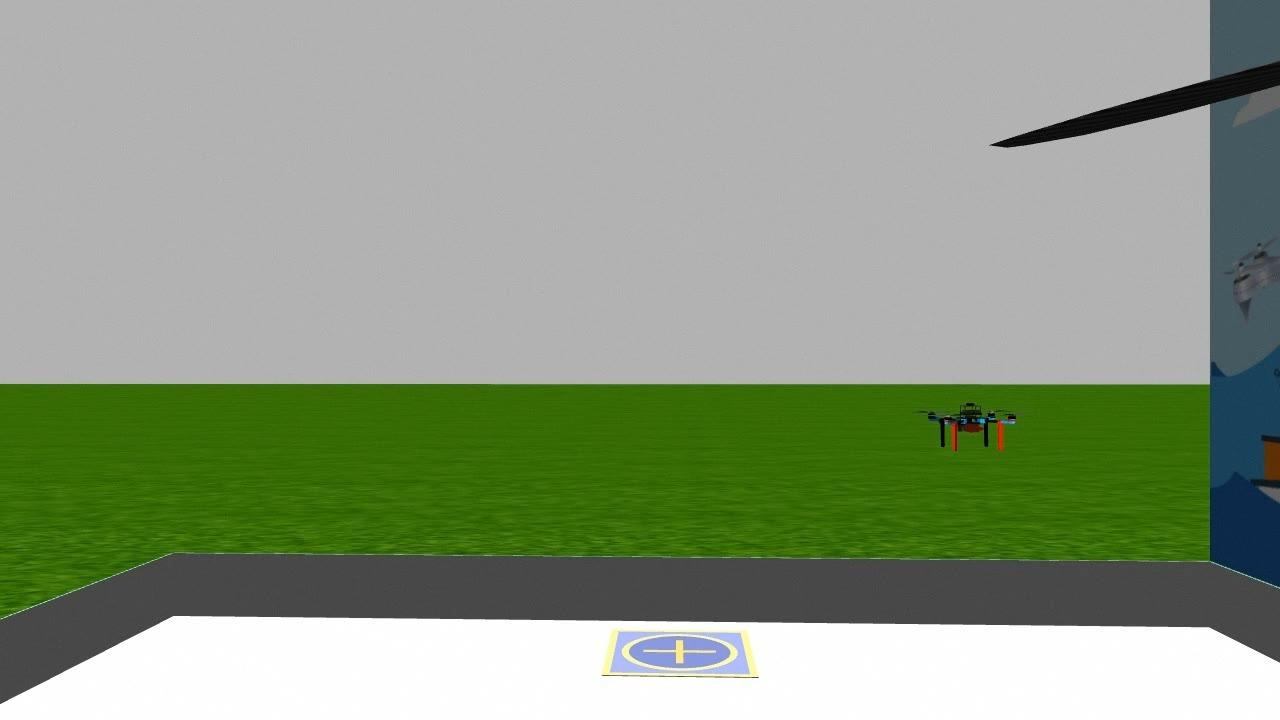UAV: (924, 393, 1022, 466)
